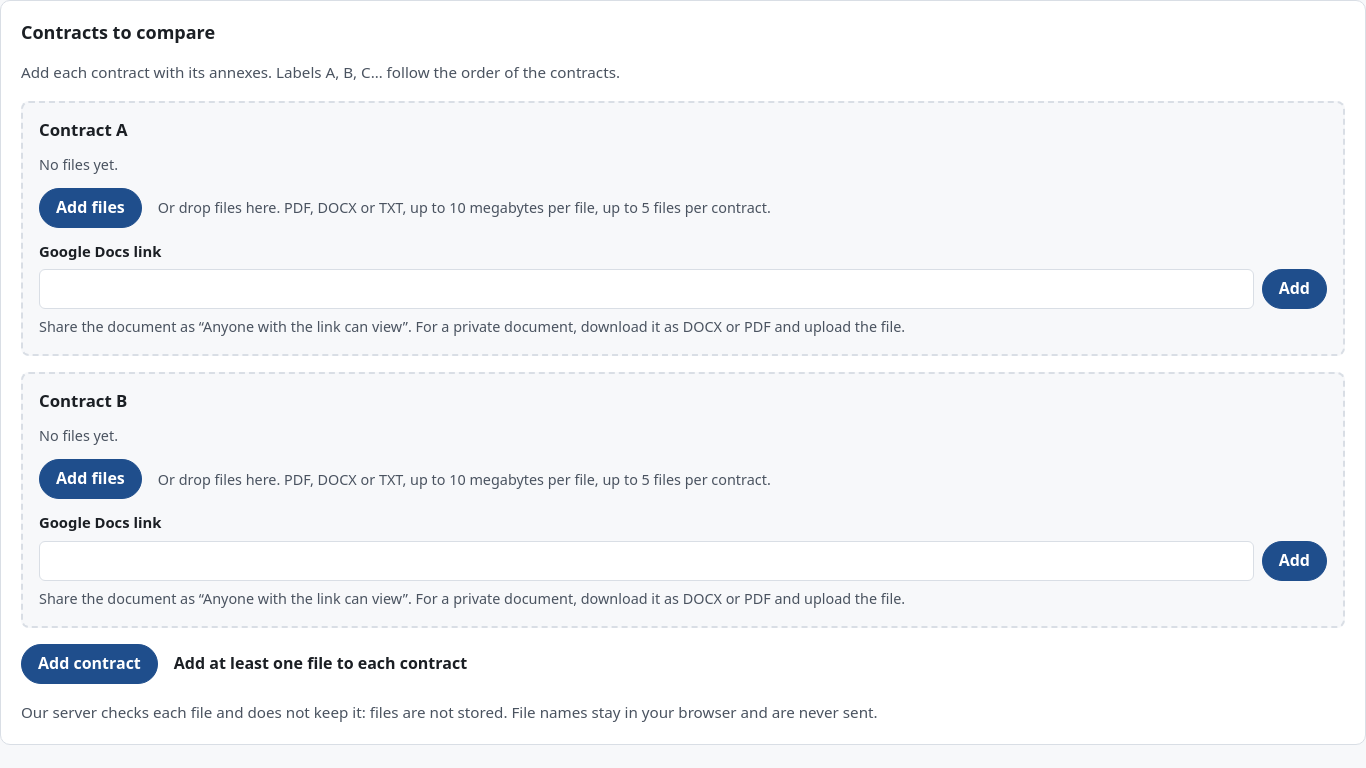
Test: field, hint and link check (items 1, 2, 5) › test_invalid_link_plain text_shows_error_and_sends_nothing
This screenshot has width=1366, height=768.
Check: the element "Contract A" is shown, box x1=21 y1=101 x2=1345 y2=356
Step 1. Type "my contract" into the 1st field labelled "Google Docs link" → (646, 289), box x1=39 y1=269 x2=1254 y2=309
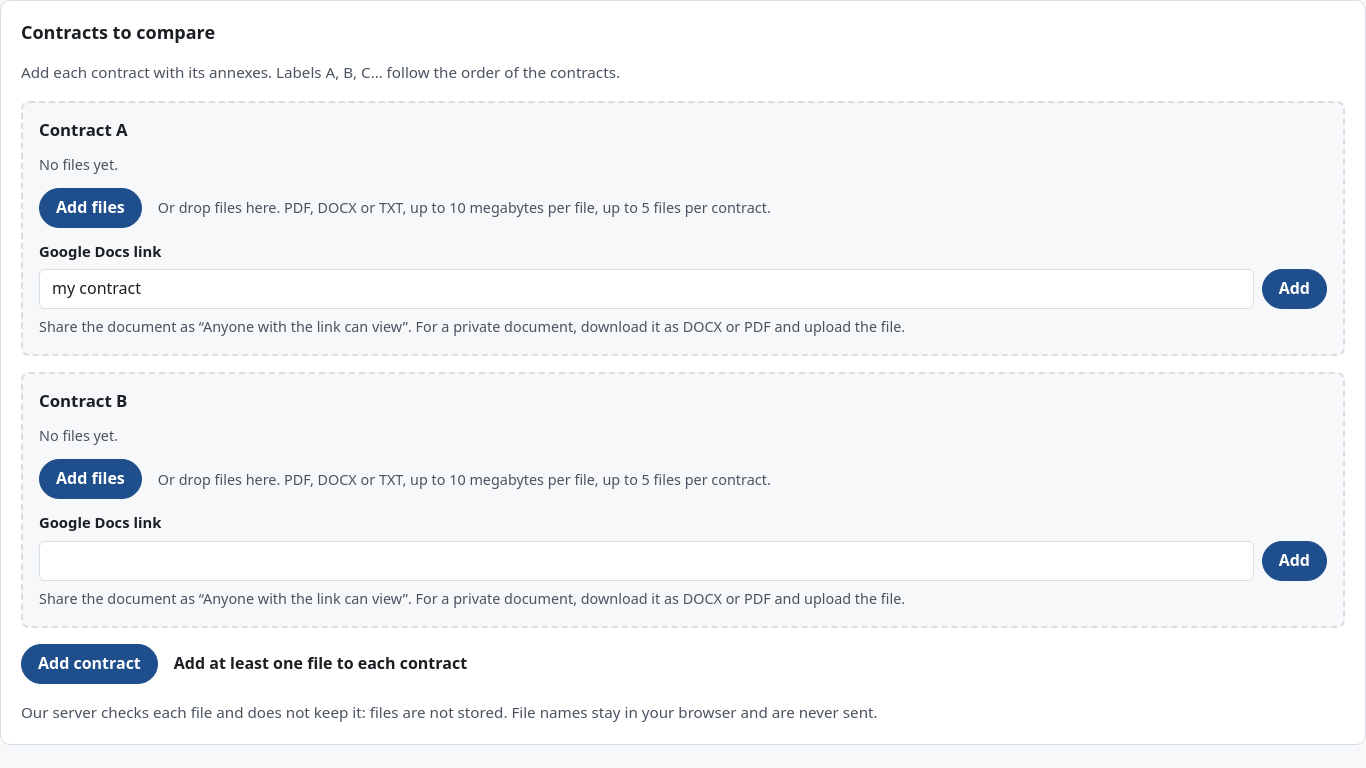
Step 2. Click the 1st button "Add" → (1294, 289), box x1=1262 y1=269 x2=1327 y2=309
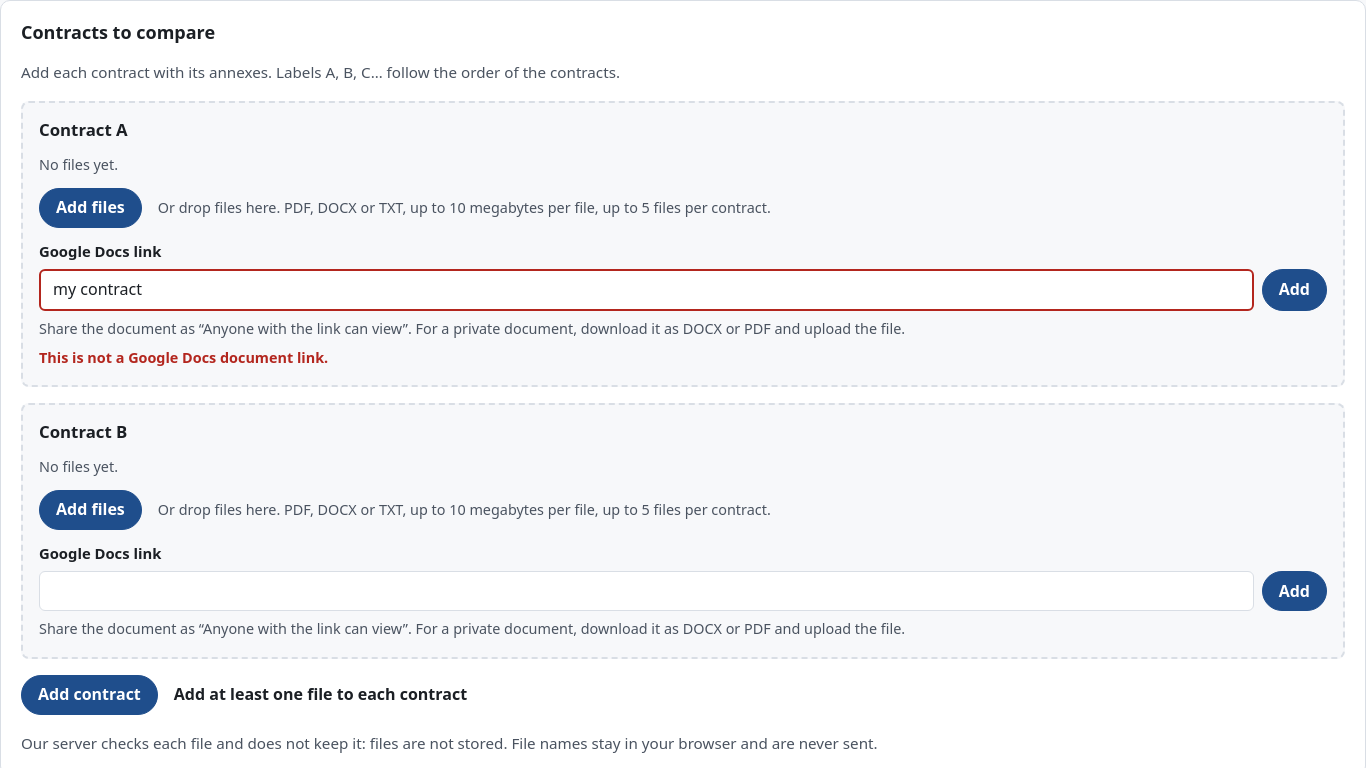
Check: the text "This is not a Google Docs document link." is shown, box x1=39 y1=348 x2=328 y2=367
